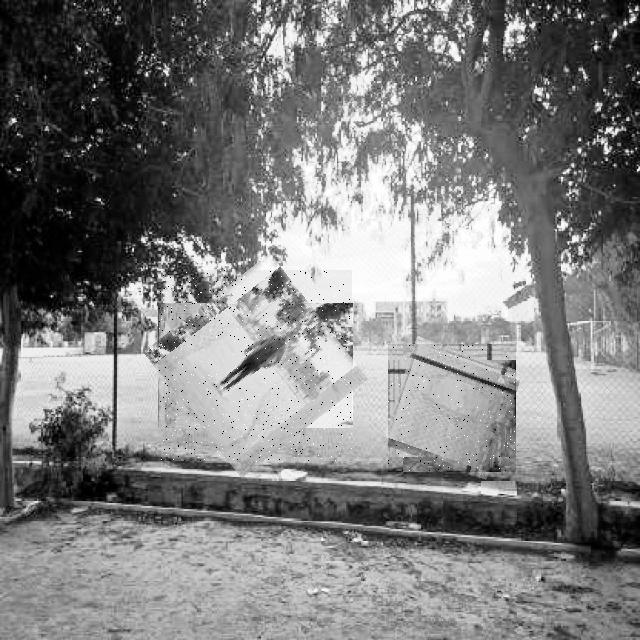anomaly-fence: (159, 270, 352, 462), (388, 344, 516, 472)
